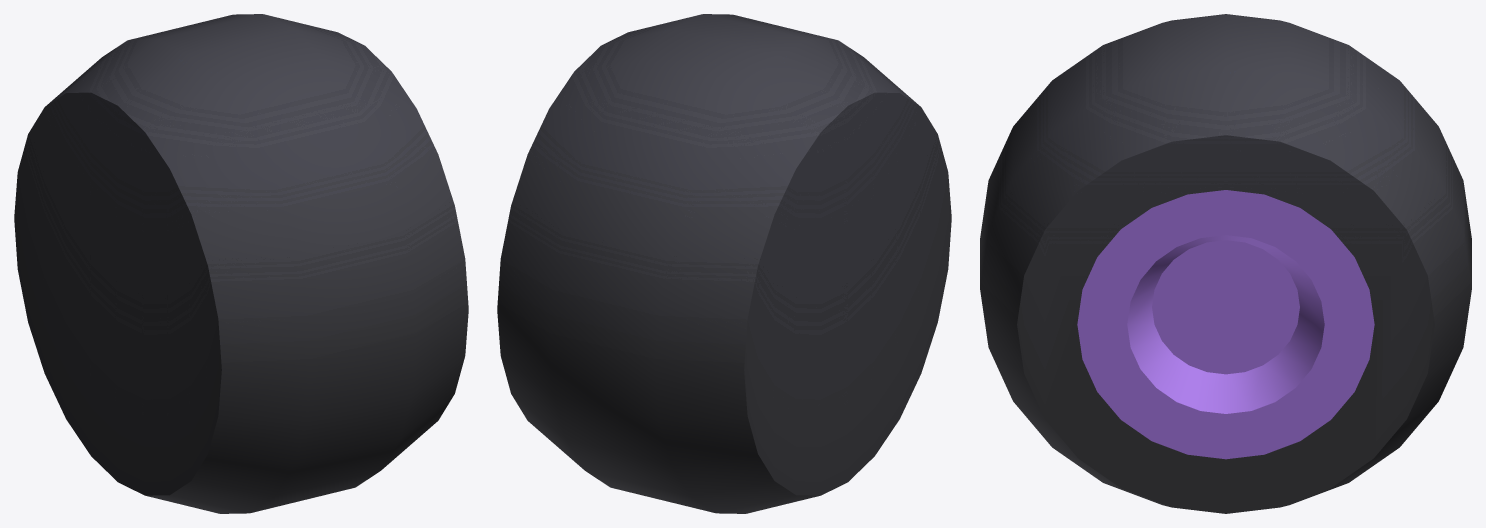
Rendered from PurpleWheel.glb.
3 views of the same model, side by side, from view 1: azimuth 30°, elevation 25°; view 2: azimuth 150°, elevation 25°; view 3: azimuth 270°, elevation 25° (orthographic).
Visible parts, largest first — view 1: wheel-front-left; view 2: wheel-front-left; view 3: wheel-front-left.
Boxes of the visible parts, bbox=[...] form: wheel-front-left: bbox=[14, 14, 468, 513]; wheel-front-left: bbox=[497, 14, 951, 513]; wheel-front-left: bbox=[980, 14, 1471, 513].
Size of the model in its own units: 0.35 by 0.6 by 0.6.
Materials: 1 (1 with a texture image).
